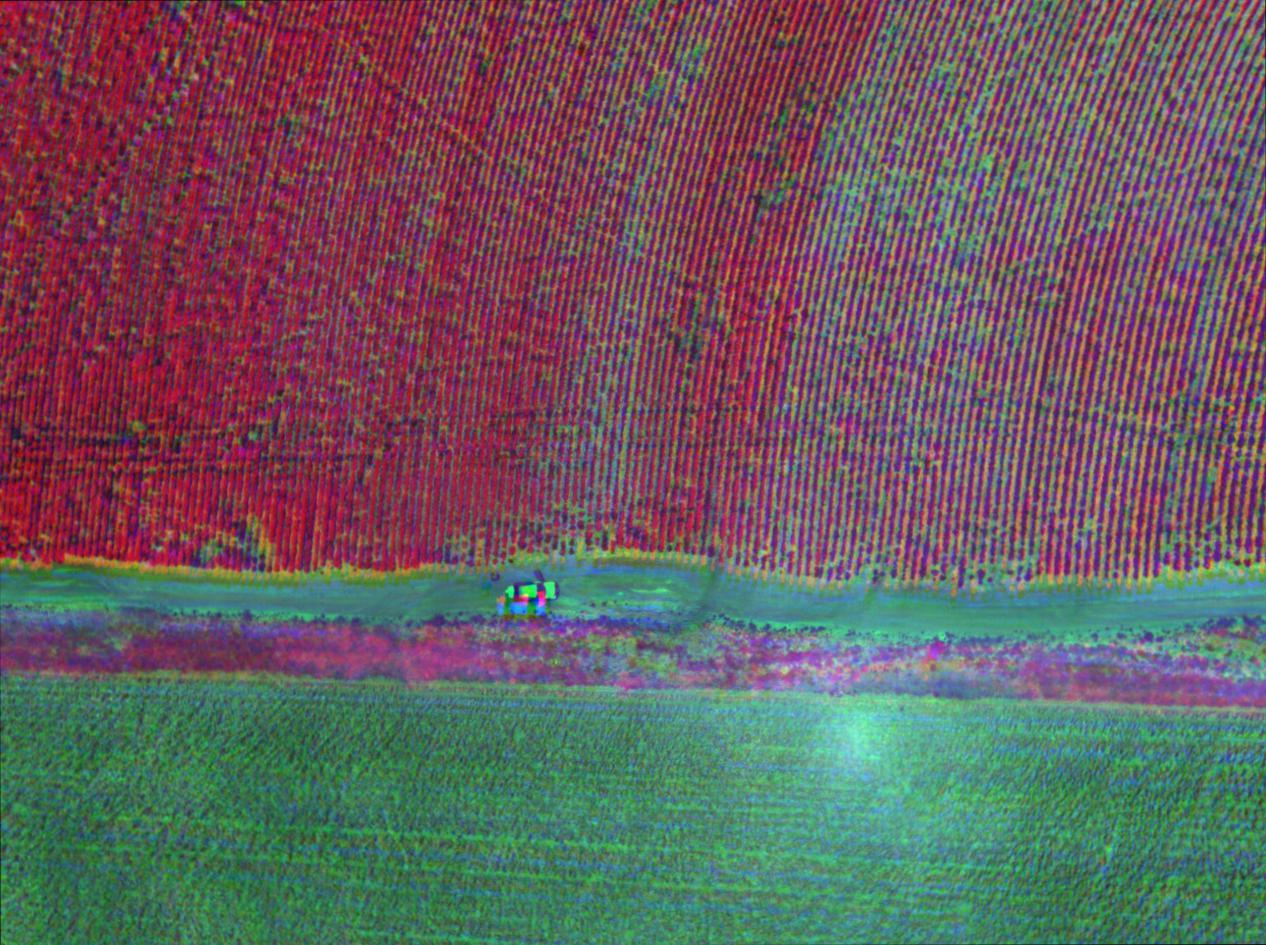dc: (642, 281, 748, 386), (172, 484, 290, 575), (1145, 494, 1266, 574), (634, 35, 725, 119)
